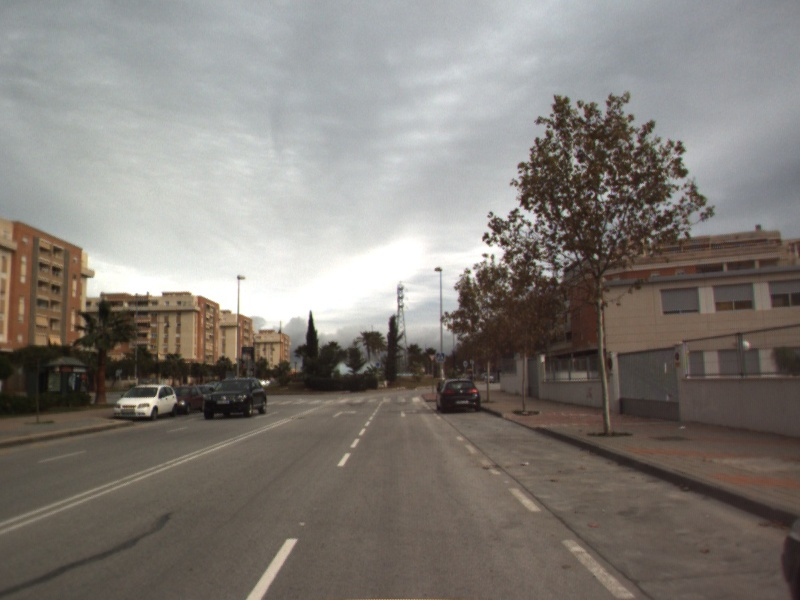RIGHT: (331, 407, 360, 419), (398, 407, 420, 419)
